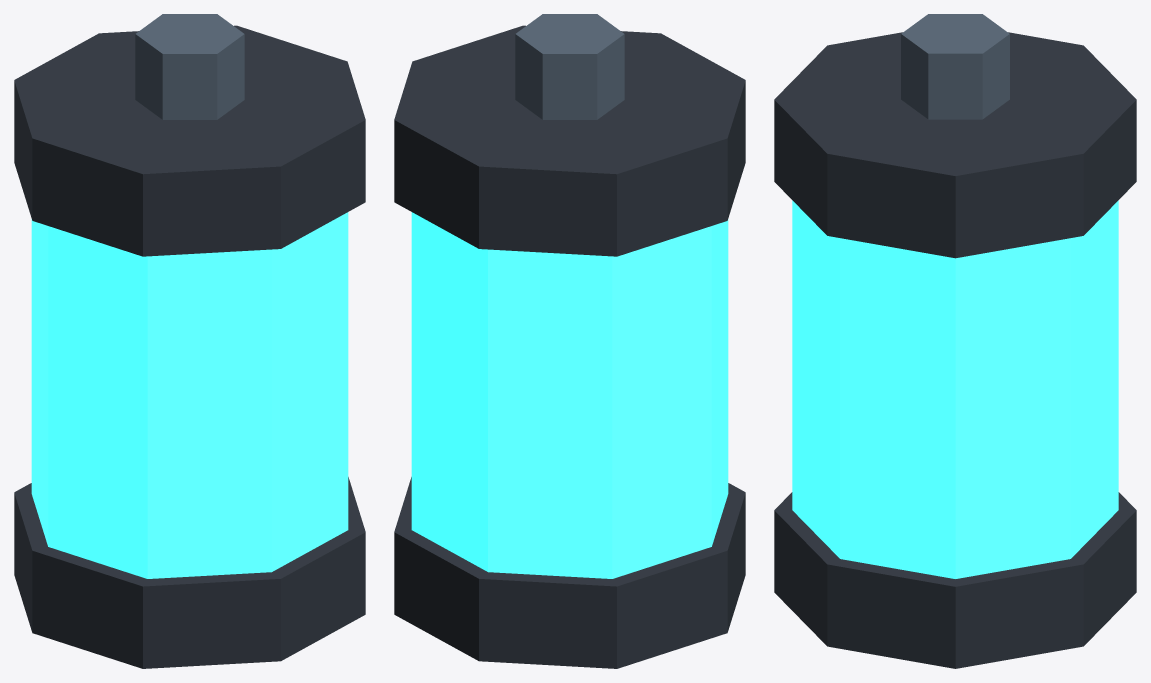
Rendered from gameplay_energy_cell.glb.
3 renders of one model, left to right at view 1: azimuth 30°, elevation 25°; view 2: azimuth 150°, elevation 25°; view 3: azimuth 270°, elevation 25°, orthographic.
Parts seen in each view (by area): view 1: gameplay_energy_cell_glow, gameplay_energy_cell_steelDark, gameplay_energy_cell_steel; view 2: gameplay_energy_cell_glow, gameplay_energy_cell_steelDark, gameplay_energy_cell_steel; view 3: gameplay_energy_cell_glow, gameplay_energy_cell_steelDark, gameplay_energy_cell_steel.
Part boxes in pixels (box(x1,y1,x2,y2)): gameplay_energy_cell_glow: box(31, 212, 348, 578); gameplay_energy_cell_steelDark: box(14, 25, 365, 668); gameplay_energy_cell_steel: box(135, 14, 244, 119); gameplay_energy_cell_glow: box(411, 212, 728, 578); gameplay_energy_cell_steelDark: box(394, 25, 745, 668); gameplay_energy_cell_steel: box(515, 14, 624, 119); gameplay_energy_cell_glow: box(792, 200, 1118, 578); gameplay_energy_cell_steelDark: box(774, 32, 1136, 668); gameplay_energy_cell_steel: box(901, 14, 1009, 119).
Size of the model in its own units: 0.4 by 0.68 by 0.4.
